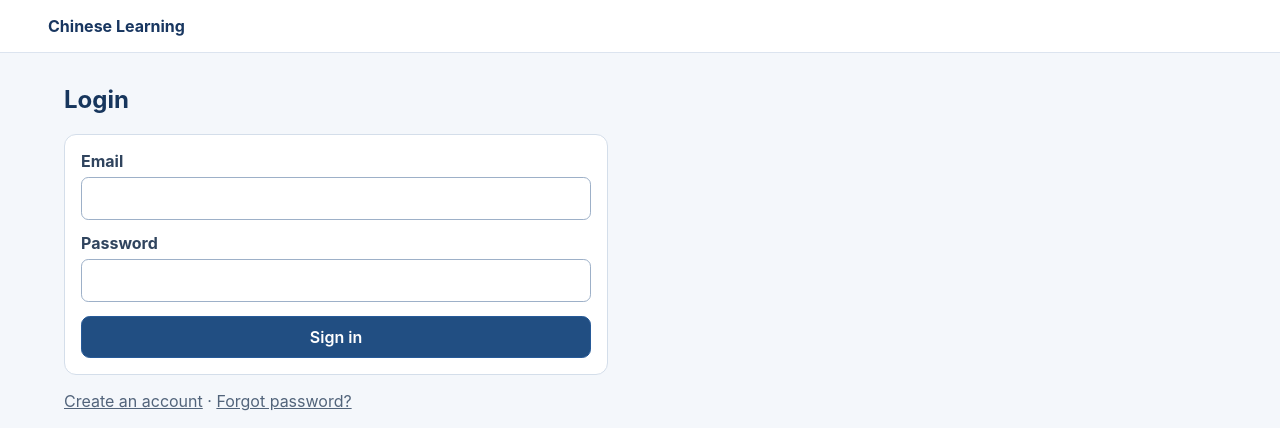
Login and Register session restoration › sends exact Login fields and restores /auth/me before Dashboard for role LEARNER
Type "learner@example.test" into the field labelled "Email".
click(336, 198); type("learner@example.test")  # box [81,176,591,220]
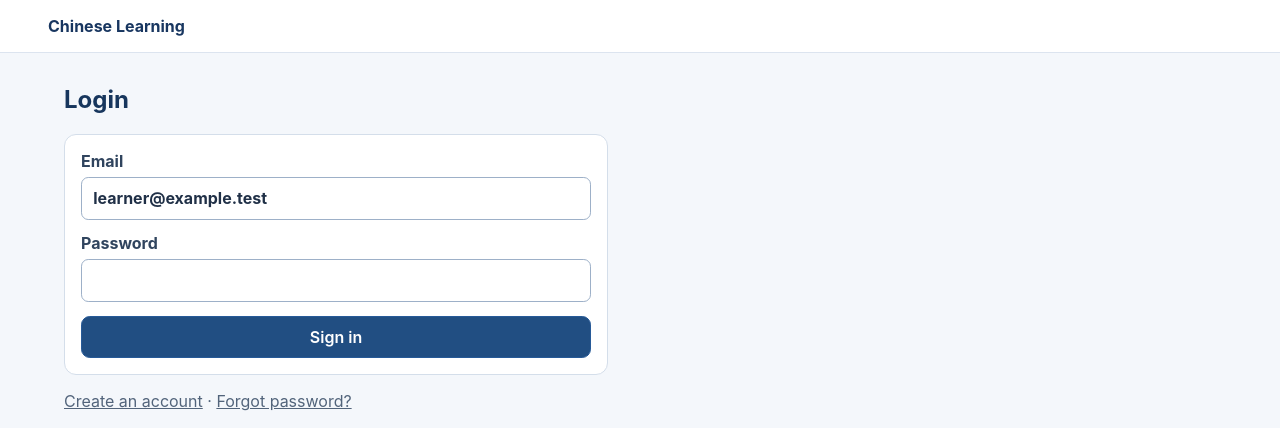
Type "secret-pass" into the password field labelled "Password".
click(336, 280); type("secret-pass")  # box [81,259,591,302]
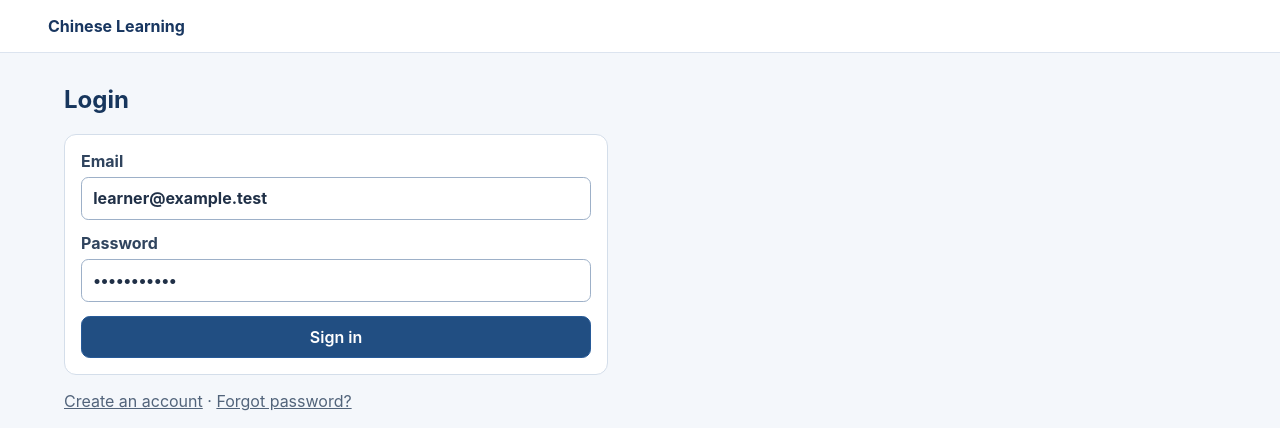
Click the button "Sign in".
click(336, 337)  # box [81,316,591,358]
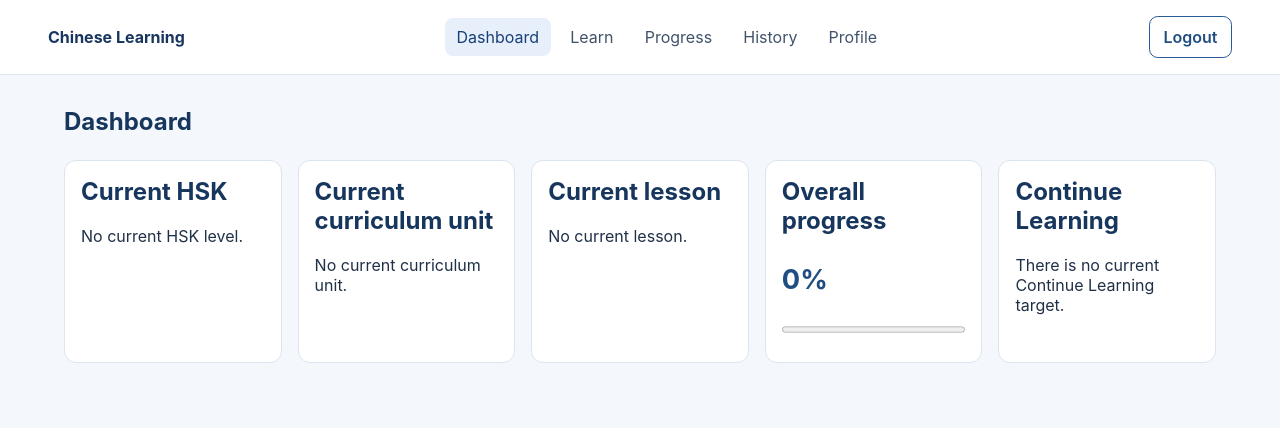
expect the heading "Dashboard" is shown: met, box [64,107,192,136]
